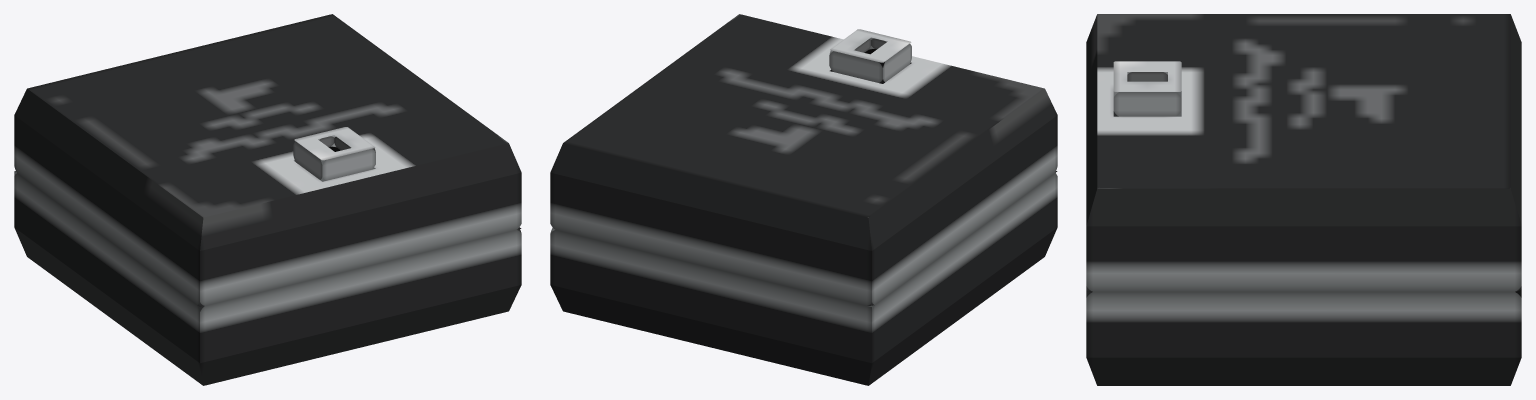
The model's file is Lockbox.fbx.
3 renders of one model, left to right at view 1: azimuth 30°, elevation 25°; view 2: azimuth 150°, elevation 25°; view 3: azimuth 270°, elevation 25°, orthographic. The views are drawn at different scales.
Visible parts, largest first — view 1: Lid, Base; view 2: Lid, Base; view 3: Lid, Base.
Part boxes in pixels (x1,y1,x2,y2): Lid: (14, 14, 521, 305); Base: (14, 171, 521, 385); Lid: (550, 14, 1057, 305); Base: (550, 171, 1057, 385); Lid: (1086, 14, 1521, 291); Base: (1086, 111, 1521, 385).
Bounding box in the file's own units: 100 × 56.25 × 100.
1 material, 1 textured.
